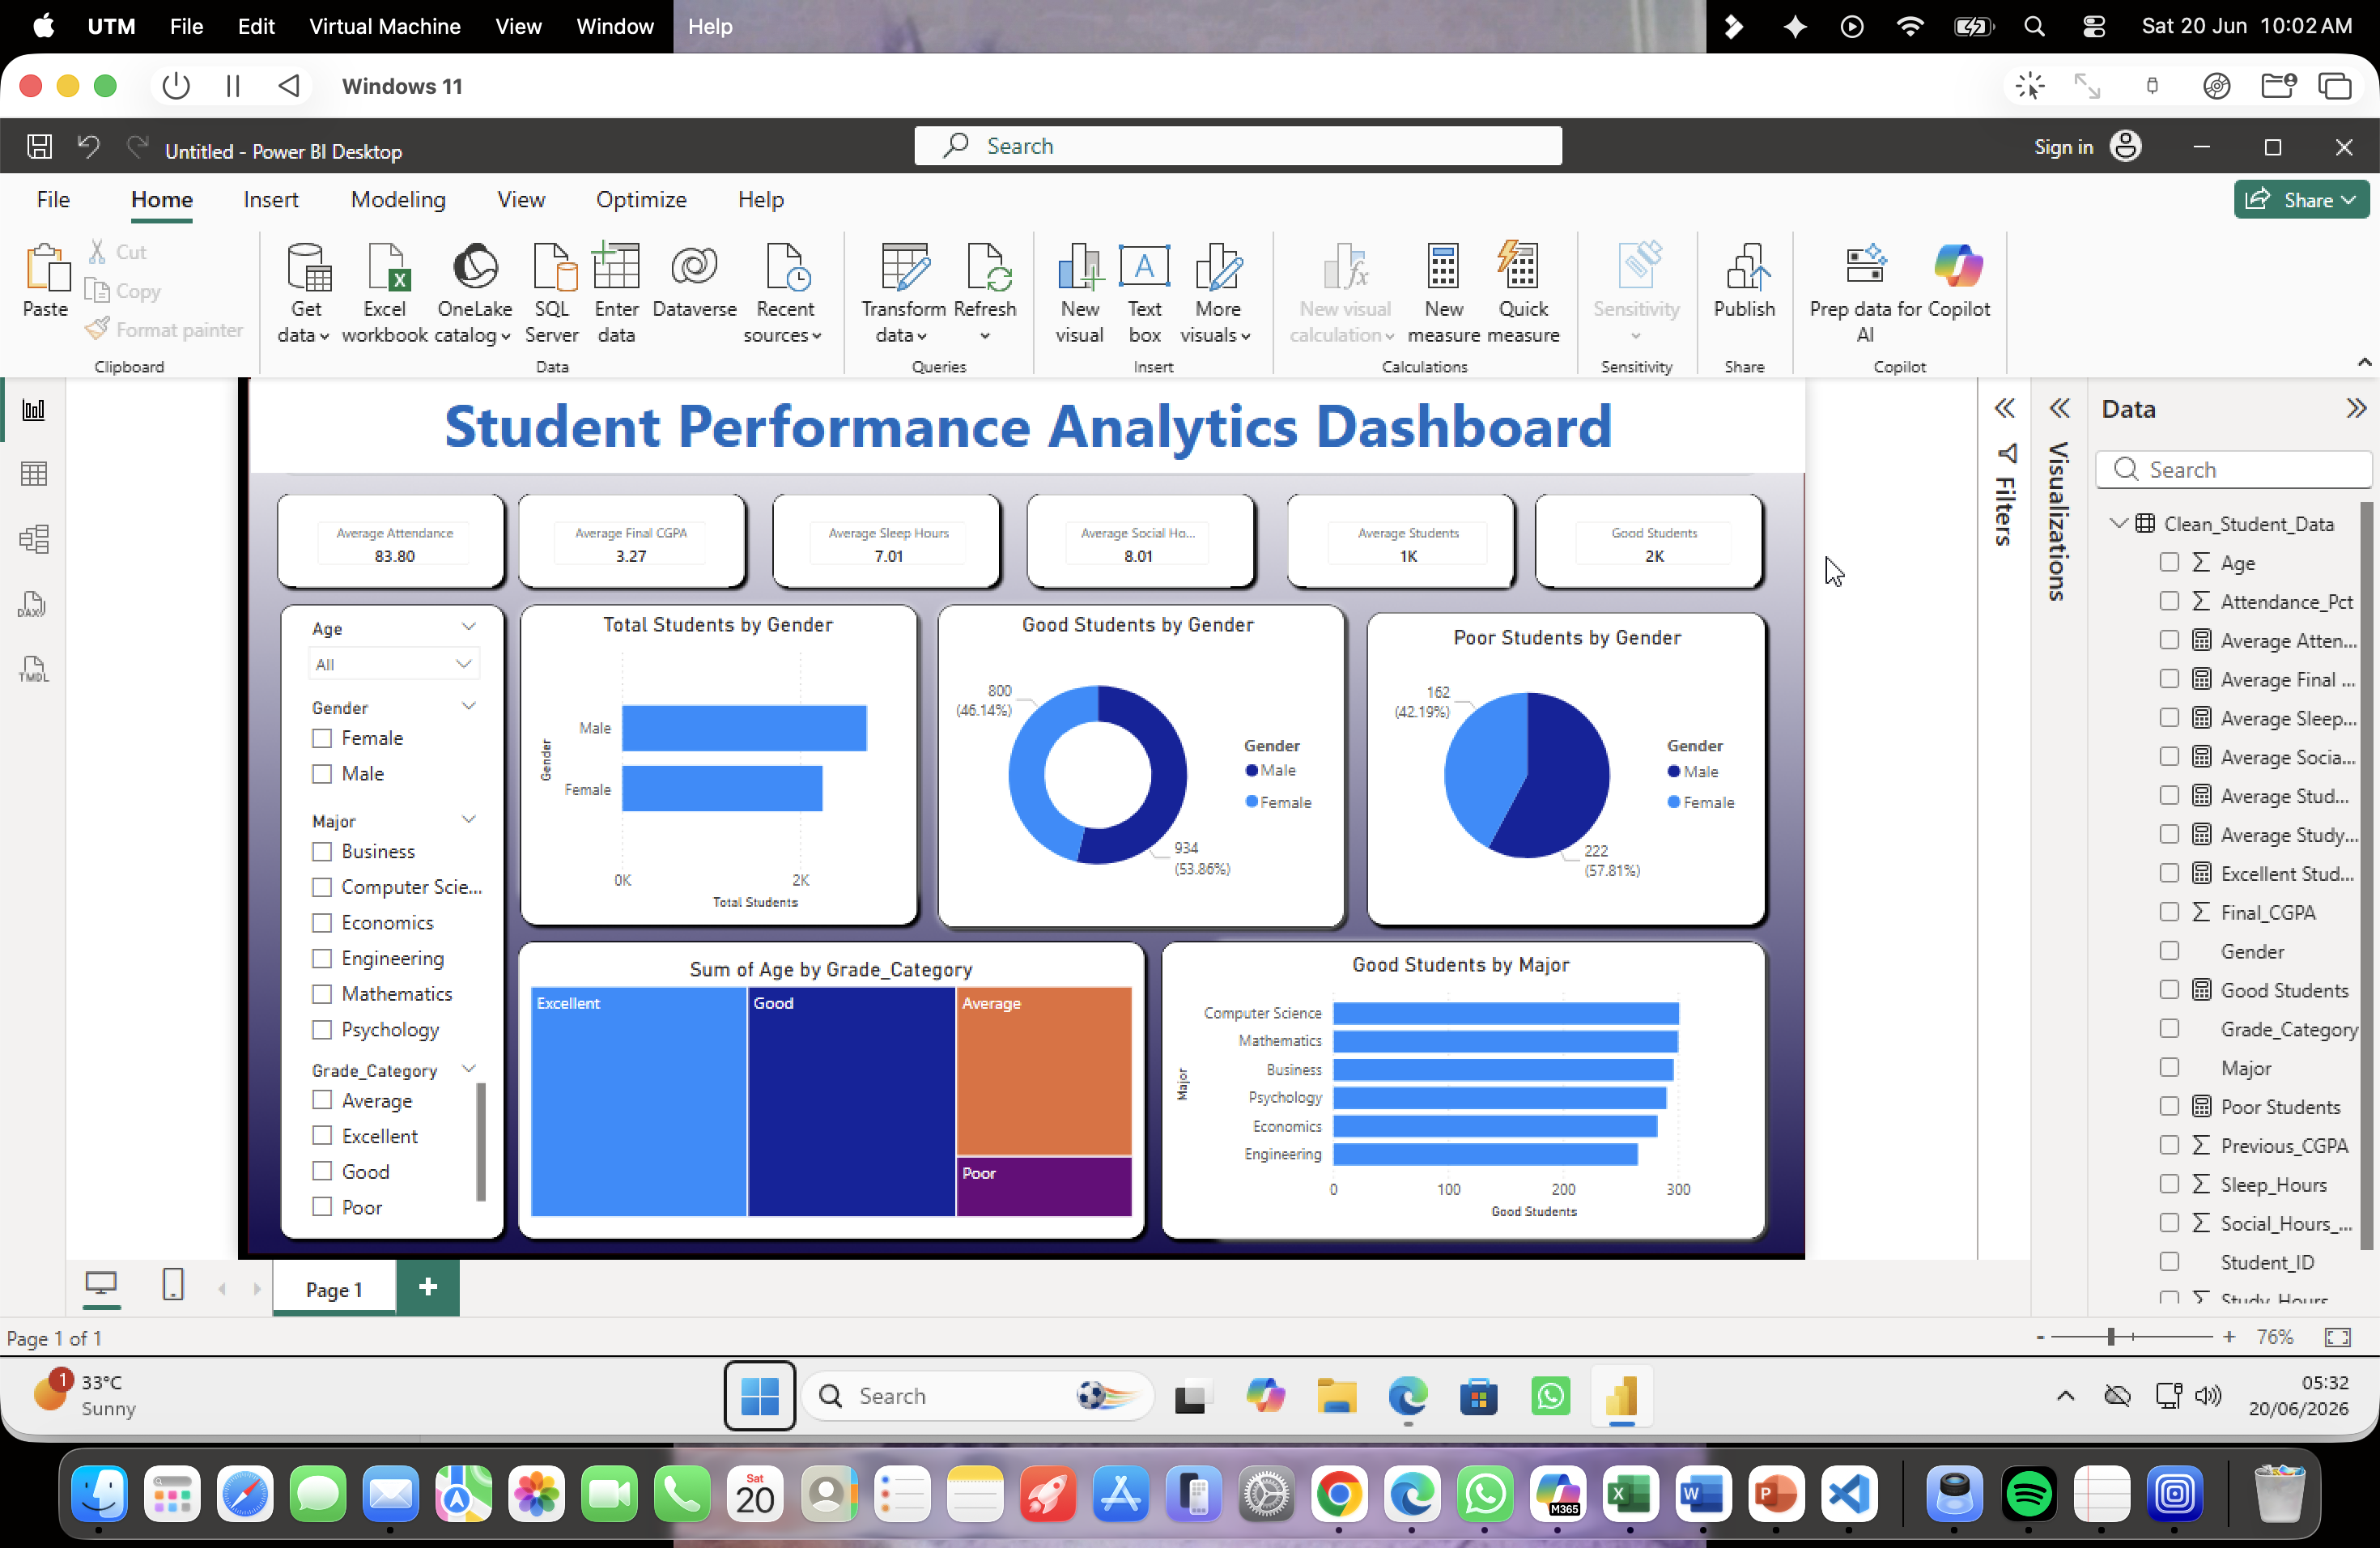

Layout of this report page (visuals, bound fields, positions):
{"tool":"powerbi","page":{"name":"Page 1","canvas":[1280,720],"ordinal":0},"visuals":[{"type":"textbox","box":[10.3,0,1269.7,78.3],"z":0},{"type":"cardVisual","fields":{"Data":["Clean_Student_Data.Average Attendance"]},"box":[47.3,100.5,159.6,70.9],"z":1},{"type":"cardVisual","fields":{"Data":["Clean_Student_Data.Average Final CGPA"]},"box":[240.9,100.5,159.6,70.9],"z":2},{"type":"cardVisual","fields":{"Data":["Clean_Student_Data.Average Sleep Hours"]},"box":[449.3,100.5,162.6,70.9],"z":3},{"type":"cardVisual","fields":{"Data":["Clean_Student_Data.Average Social Hours"]},"box":[657.7,100.5,152.2,70.9],"z":4},{"type":"cardVisual","fields":{"Data":["Clean_Student_Data.Average Students"]},"box":[872.1,100.5,165.5,70.9],"z":5},{"type":"cardVisual","fields":{"Data":["Clean_Student_Data.Good Students"]},"box":[1074.5,100.5,162.6,70.9],"z":6},{"type":"barChart","fields":{"Category":["Clean_Student_Data.Gender"],"Y":["Clean_Student_Data.Total Students"]},"box":[240.9,192.1,303,246.8],"z":7},{"type":"donutChart","fields":{"Category":["Clean_Student_Data.Gender"],"Y":["Clean_Student_Data.Good Students"]},"box":[577.9,192.1,314.8,246.8],"z":8},{"type":"pieChart","fields":{"Category":["Clean_Student_Data.Gender"],"Y":["Clean_Student_Data.Poor Students"]},"box":[932.7,202.5,304.5,226.1],"z":9},{"type":"treemap","fields":{"Values":["Sum(Clean_Student_Data.Age)"],"Group":["Clean_Student_Data.Grade_Category"]},"box":[233.5,473,501.1,217.3],"z":10},{"type":"barChart","fields":{"Category":["Clean_Student_Data.Major"],"Y":["Clean_Student_Data.Good Students"]},"box":[759.7,468.5,477.4,221.7],"z":11},{"type":"slicer","fields":{"Values":["Clean_Student_Data.Age"]},"box":[47.3,192.1,159.6,63.6],"z":12},{"type":"slicer","fields":{"Values":["Clean_Student_Data.Gender"]},"box":[47.3,255.7,159.6,93.1],"z":13},{"type":"slicer","fields":{"Values":["Clean_Student_Data.Major"]},"box":[47.3,348.8,159.6,204],"z":14},{"type":"slicer","fields":{"Values":["Clean_Student_Data.Grade_Category"]},"box":[47.3,552.8,159.6,137.5],"z":15}]}

Visuals, with their boxes on the page's 1280x720 design canvas (x1, y1, x2, y2). These are canvas units, not pixel positions in the 2380x1548 screenshot, which may show the page scaled, cropped or inside an application window:
textbox: bbox(10, 0, 1280, 78)
cardVisual - Clean_Student_Data.Average Attendance: bbox(47, 100, 207, 171)
cardVisual - Clean_Student_Data.Average Final CGPA: bbox(241, 100, 400, 171)
cardVisual - Clean_Student_Data.Average Sleep Hours: bbox(449, 100, 612, 171)
cardVisual - Clean_Student_Data.Average Social Hours: bbox(658, 100, 810, 171)
cardVisual - Clean_Student_Data.Average Students: bbox(872, 100, 1038, 171)
cardVisual - Clean_Student_Data.Good Students: bbox(1074, 100, 1237, 171)
barChart - Clean_Student_Data.Gender x Clean_Student_Data.Total Students: bbox(241, 192, 544, 439)
donutChart - Clean_Student_Data.Gender x Clean_Student_Data.Good Students: bbox(578, 192, 893, 439)
pieChart - Clean_Student_Data.Gender x Clean_Student_Data.Poor Students: bbox(933, 202, 1237, 429)
treemap - Sum(Clean_Student_Data.Age) x Clean_Student_Data.Grade_Category: bbox(234, 473, 735, 690)
barChart - Clean_Student_Data.Major x Clean_Student_Data.Good Students: bbox(760, 468, 1237, 690)
slicer - Clean_Student_Data.Age: bbox(47, 192, 207, 256)
slicer - Clean_Student_Data.Gender: bbox(47, 256, 207, 349)
slicer - Clean_Student_Data.Major: bbox(47, 349, 207, 553)
slicer - Clean_Student_Data.Grade_Category: bbox(47, 553, 207, 690)
